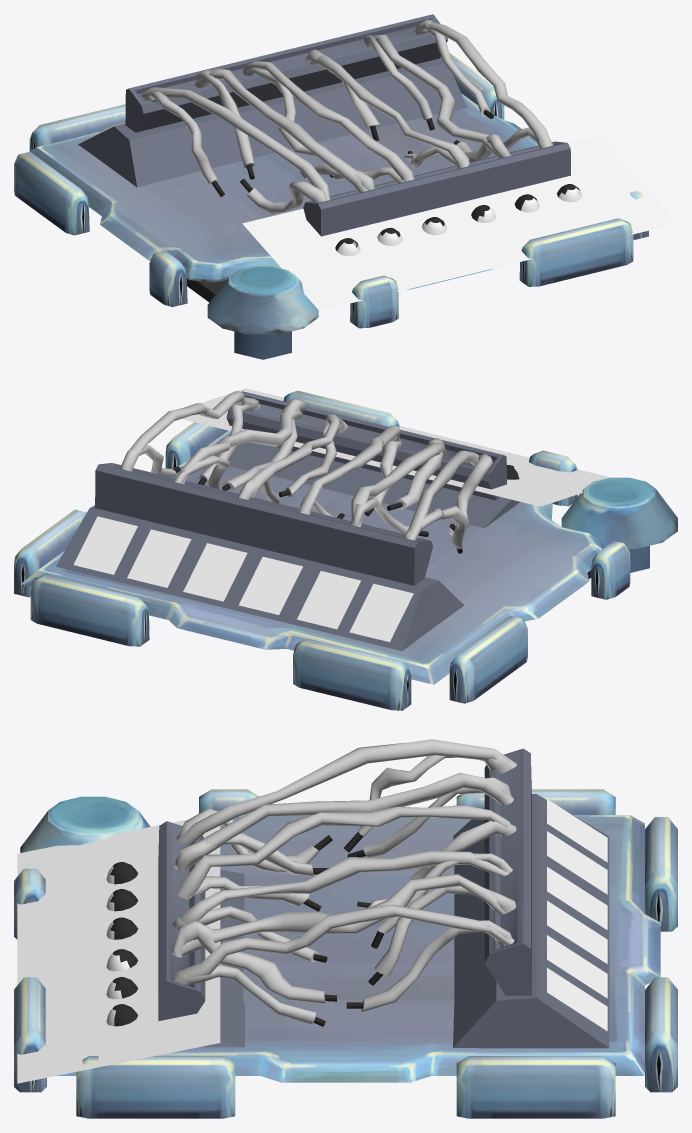
File: VennWires2.fbx
3 renders of one model, top to bottom at view 1: azimuth 30°, elevation 25°; view 2: azimuth 150°, elevation 25°; view 3: azimuth 270°, elevation 25°, orthographic. The views are drawn at different scales.
Parts seen in each view (by area): view 1: Component_PuzzleBackground, Base, LightGlow1, LightGlow5, LightGlow6, LightGlow4, Wires_Snipped_6, Wires_Unsnipped_5, Wires_Unsnipped_6, Wires_Unsnipped_4, Wires_Unsnipped_2, Wires_Unsnipped_1 (+7 smaller); view 2: Component_PuzzleBackground, Base, LightGlow6, Boolean_3, Boolean_4, Boolean_2, Boolean_6, Boolean_5, Boolean_1, Wires_Snipped_2, Wires_Snipped_6, Wires_Snipped_5 (+12 smaller); view 3: Component_PuzzleBackground, Base, LightGlow1, LightGlow4, LightGlow5, LightGlow6, Wires_Unsnipped_6, Wires_Unsnipped_4, Wires_Snipped_2, Wires_Unsnipped_1, Wires_Unsnipped_5, Wires_Unsnipped_3 (+13 smaller).
Boxes of the visible parts, x1,y1,x2,y2 form: Component_PuzzleBackground: (14,53,648,359); Base: (78,14,570,236); LightGlow1: (487,136,677,241); LightGlow5: (284,206,497,300); LightGlow6: (242,209,452,310); LightGlow4: (408,196,532,279); Wires_Snipped_6: (149,91,327,213); Wires_Unsnipped_5: (194,68,367,192); Wires_Unsnipped_6: (141,87,330,200); Wires_Unsnipped_4: (243,61,414,181); Wires_Unsnipped_2: (366,35,500,158); Wires_Unsnipped_1: (414,22,552,147); Component_PuzzleBackground: (14,390,677,710); Base: (56,391,520,651); LightGlow6: (451,445,610,506); Boolean_3: (183,543,247,601); Boolean_4: (239,556,302,614); Boolean_2: (127,529,191,587); Boolean_6: (349,583,413,642); Boolean_5: (297,571,360,629); Boolean_1: (73,516,137,574); Wires_Snipped_2: (173,399,305,490); Wires_Snipped_6: (404,454,492,553); Wires_Snipped_5: (352,438,443,536); Component_PuzzleBackground: (14,789,677,1118); Base: (158,748,609,1048); LightGlow1: (17,958,220,1083); LightGlow4: (17,868,220,989); LightGlow5: (17,847,220,947); LightGlow6: (17,819,220,923); Wires_Unsnipped_6: (177,739,516,845); Wires_Unsnipped_4: (176,805,510,898); Wires_Snipped_2: (172,886,516,1004); Wires_Unsnipped_1: (172,904,514,985); Wires_Unsnipped_5: (172,772,513,870); Wires_Unsnipped_3: (175,851,508,929).
Size of the model in its own units: 7.92 by 2.57 by 7.87.
12 materials, 7 textured.
